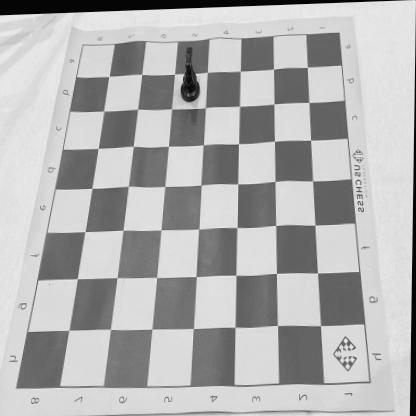black-knight: (180, 44, 202, 101)
